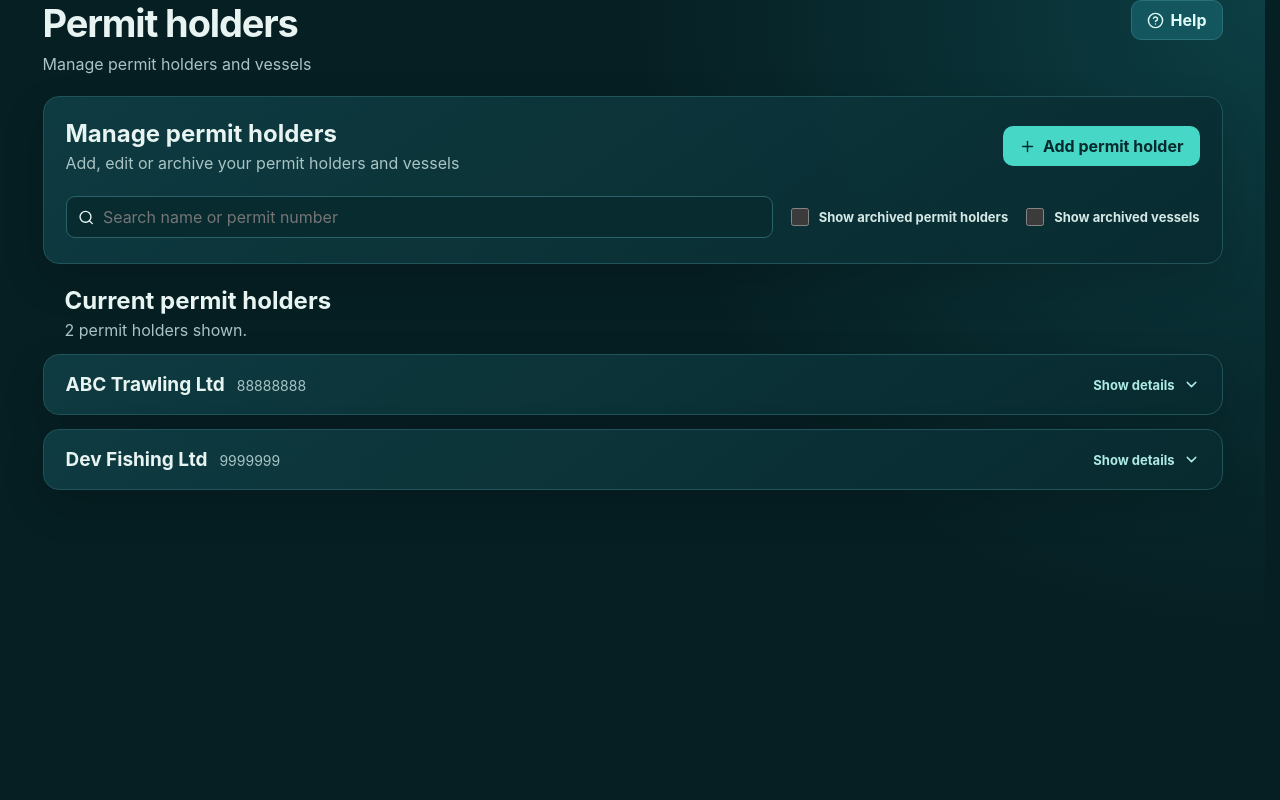
Test: labels only archived vessels in the expanded list and editor, with independent archive filters
The width and height of the screenshot is (1280, 800).
Check: the text "ABC Trawling Ltd" is shown, box [66,373,225,396]
Check: the text "Archived boat" is not shown
Click the checkbox labelled "Show archived permit holders".
click(800, 217)  # box [791,208,809,226]
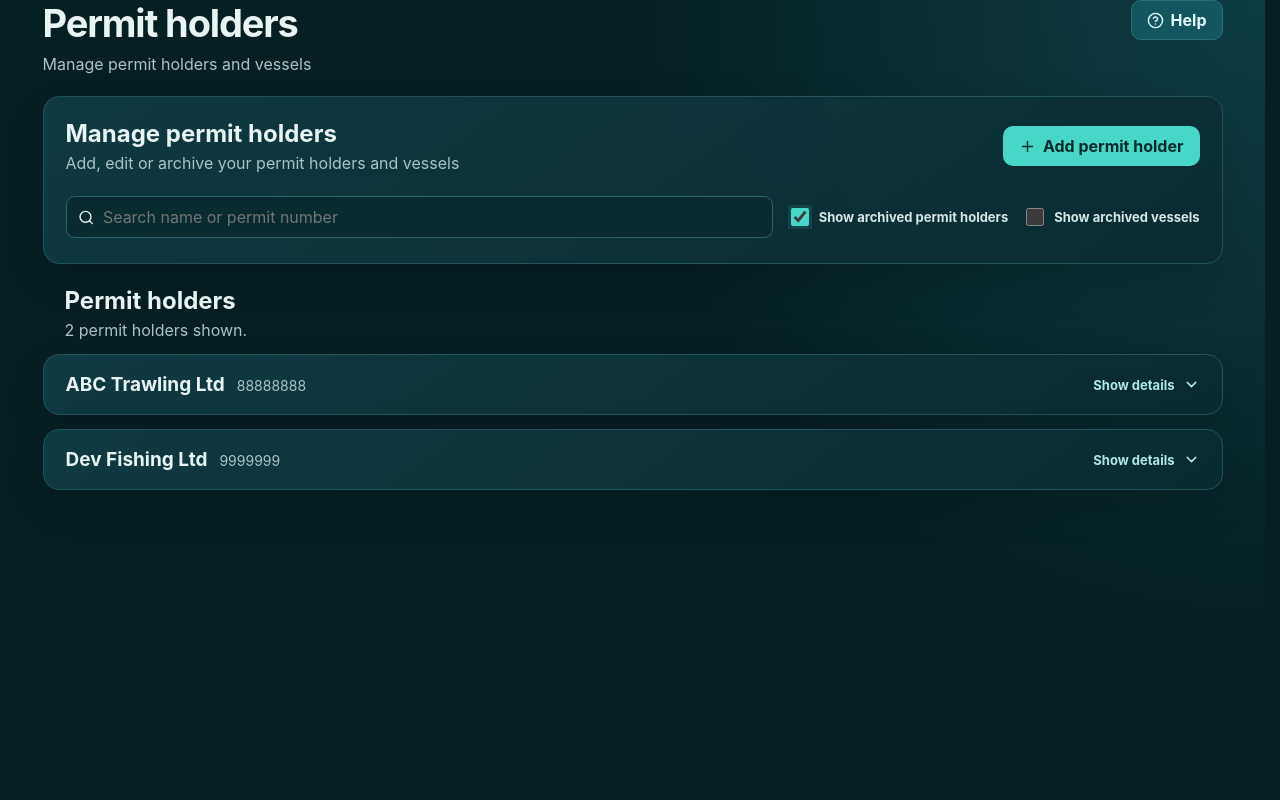
Click the heading named "Show or hide details for ABC Trawling Ltd".
click(145, 384)  # box [66,373,1200,396]
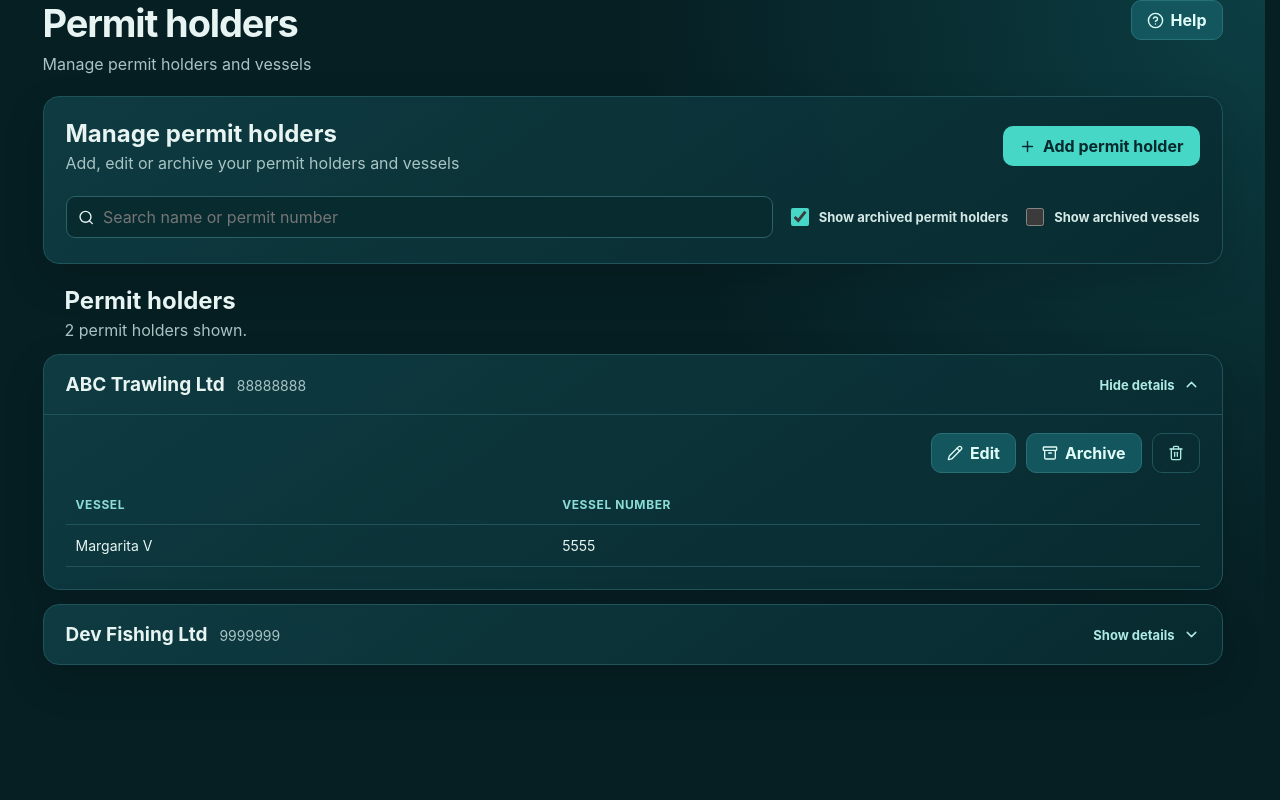
Check: the text "Archived boat" is not shown
Click the checkbox labelled "Show archived vessels".
click(1035, 217)  # box [1026,208,1044,226]
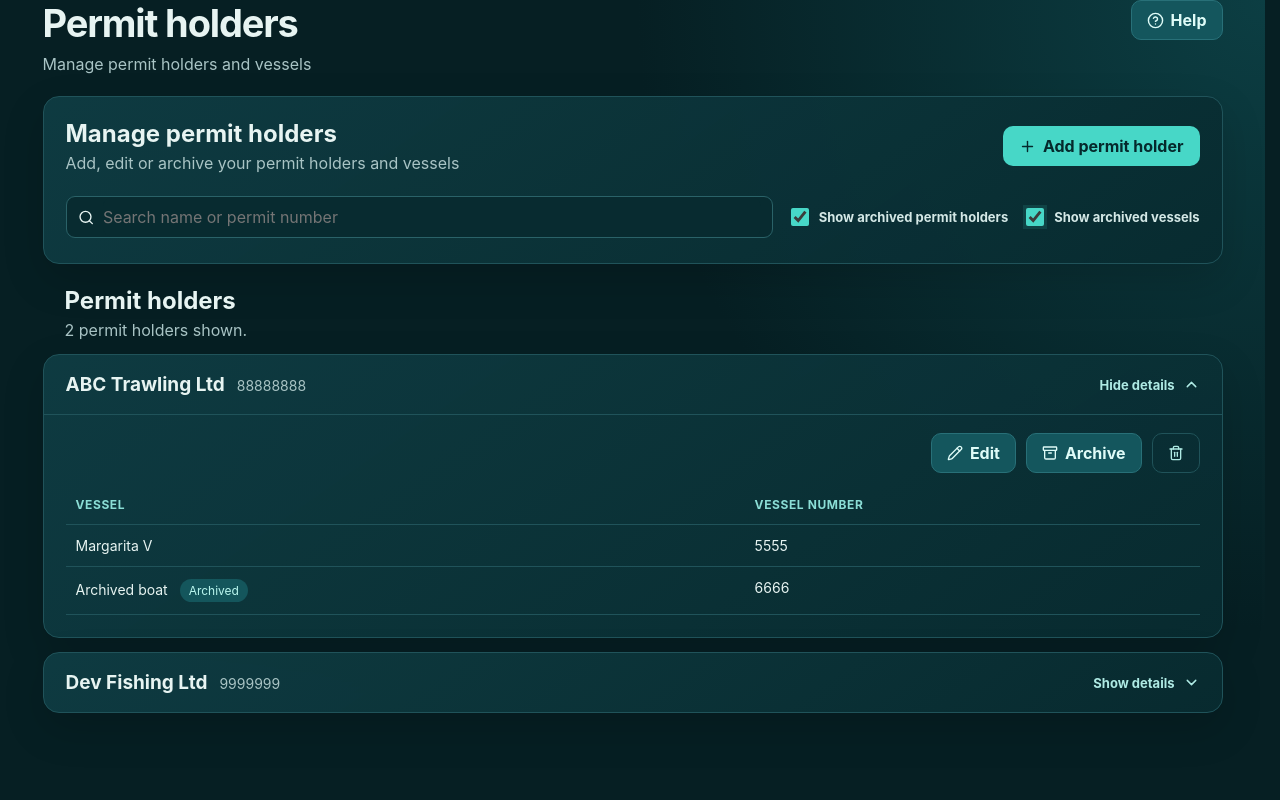
Check: the text "Archived" is shown, box [180,579,248,602]
Click the button with aria-label "Edit ABC Trawling Ltd".
click(973, 453)  # box [931,433,1016,473]
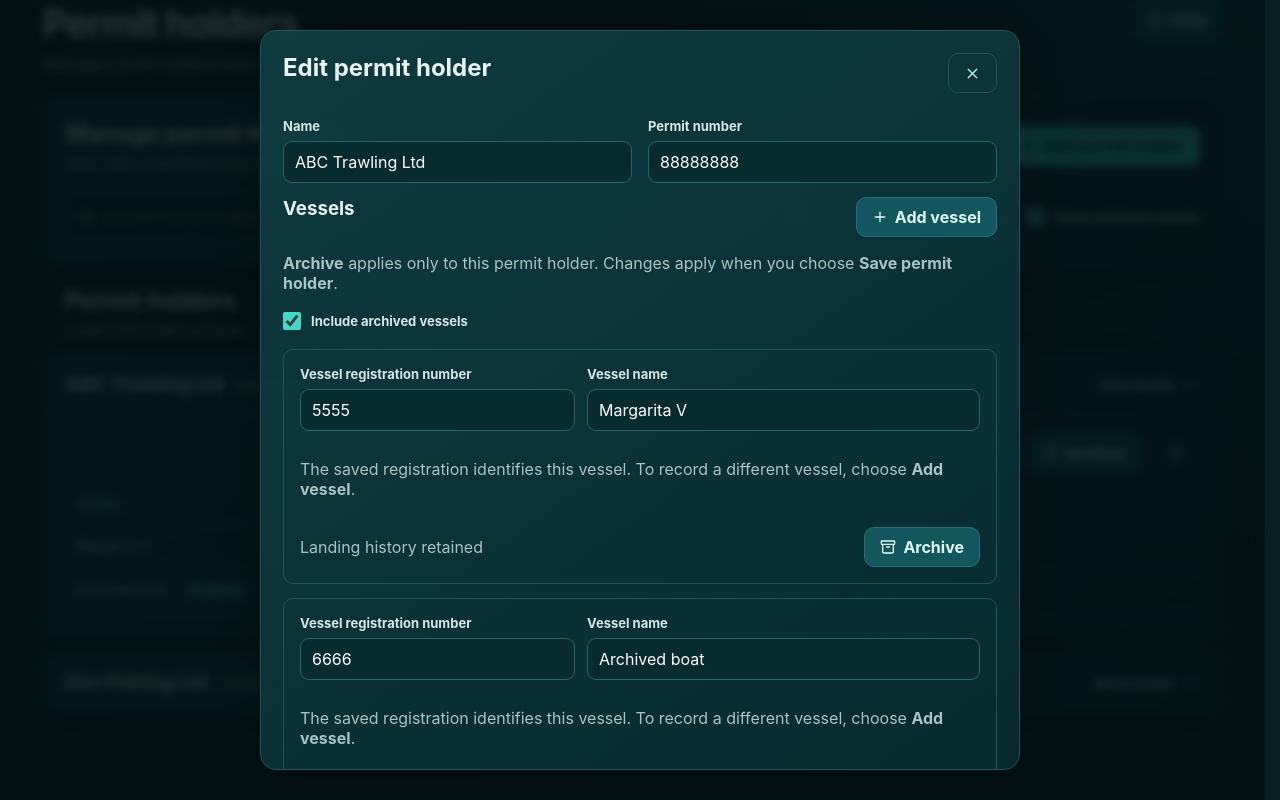
Click the checkbox labelled "Include archived vessels".
click(292, 321)  # box [283,312,301,330]
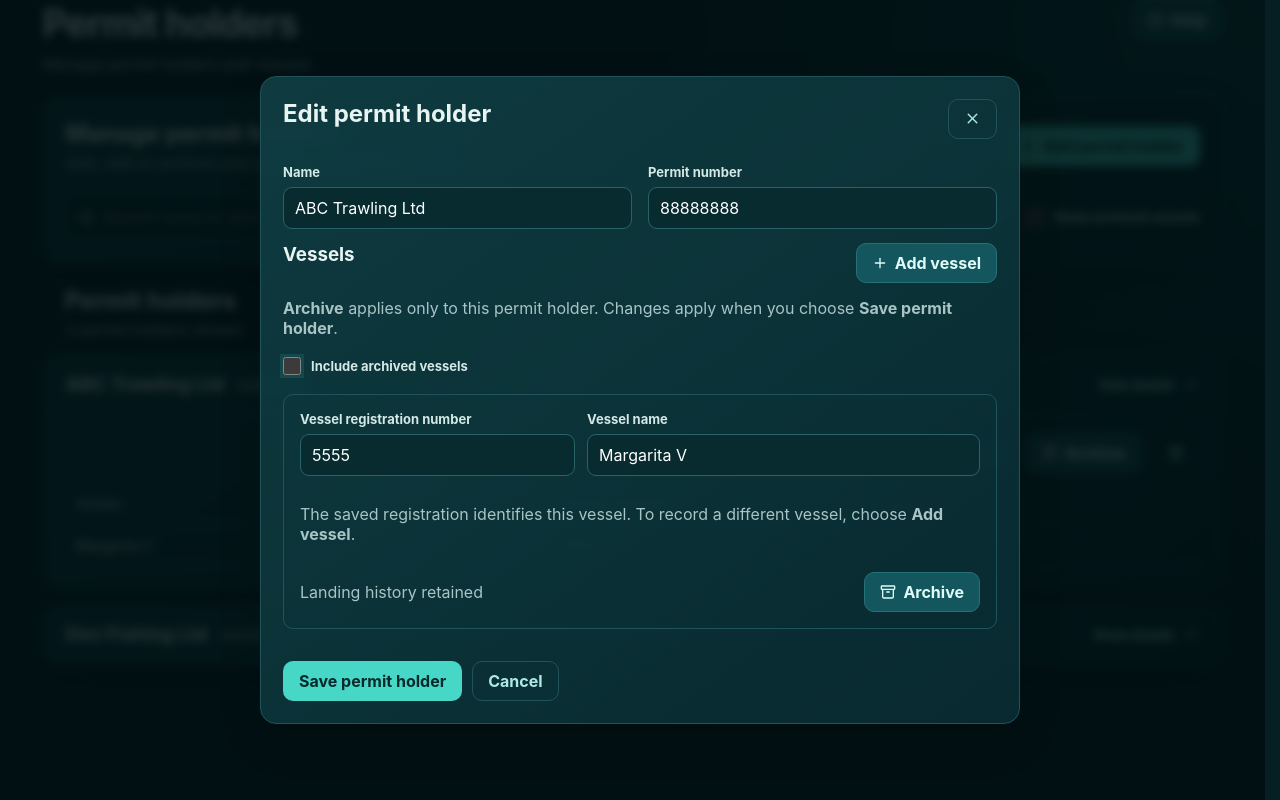
Check: the field showing "Margarita V" is shown, box [587,434,980,476]
Check: the cell showing "Archived boat" is gone
